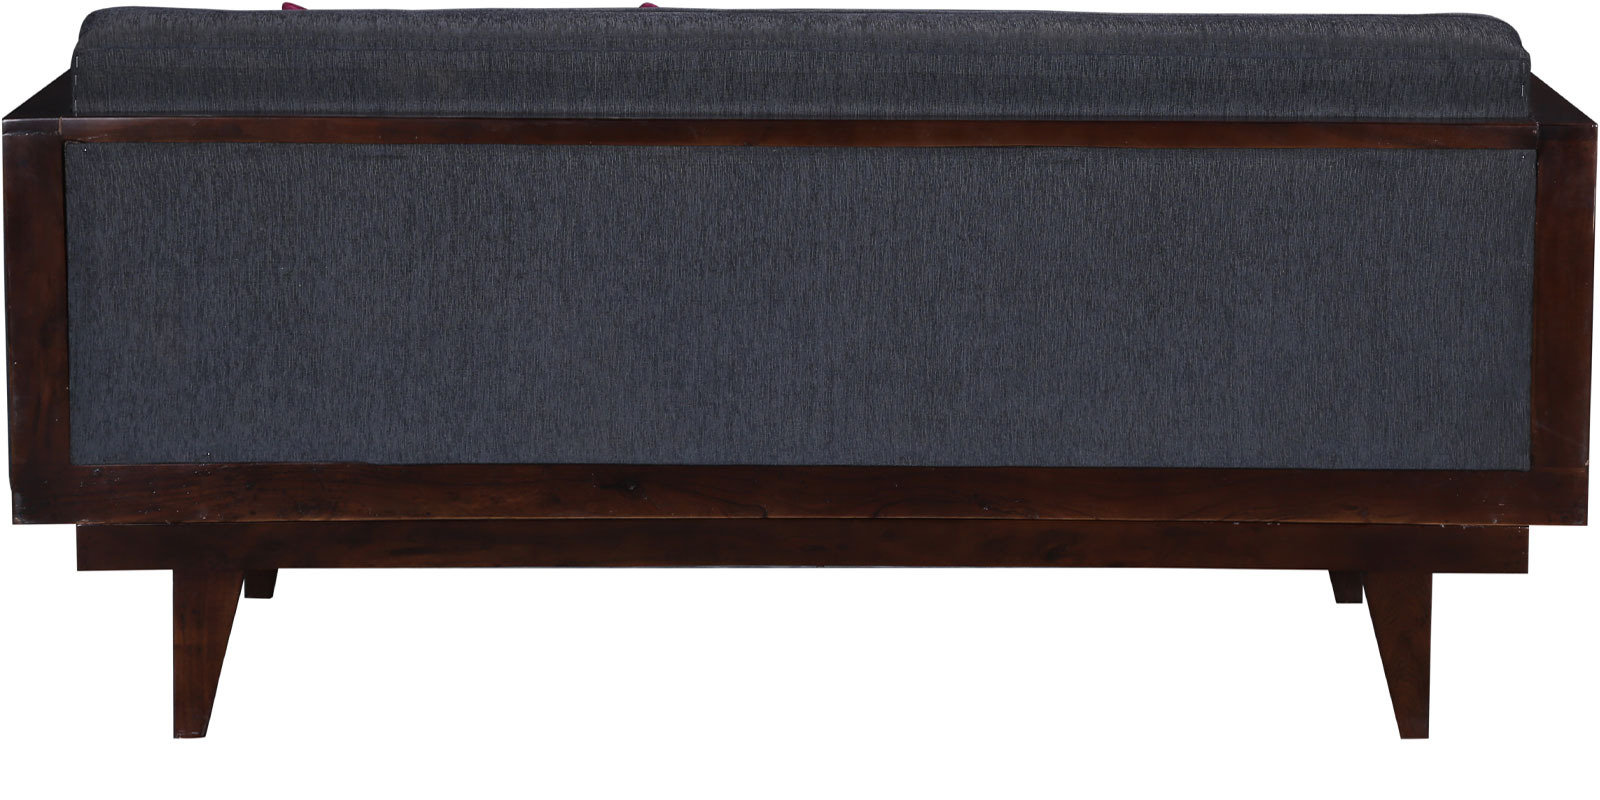Dillon Three Seater Sofa in Passion Mahogany Finish by Woodsworth: (1, 1, 1600, 779)
